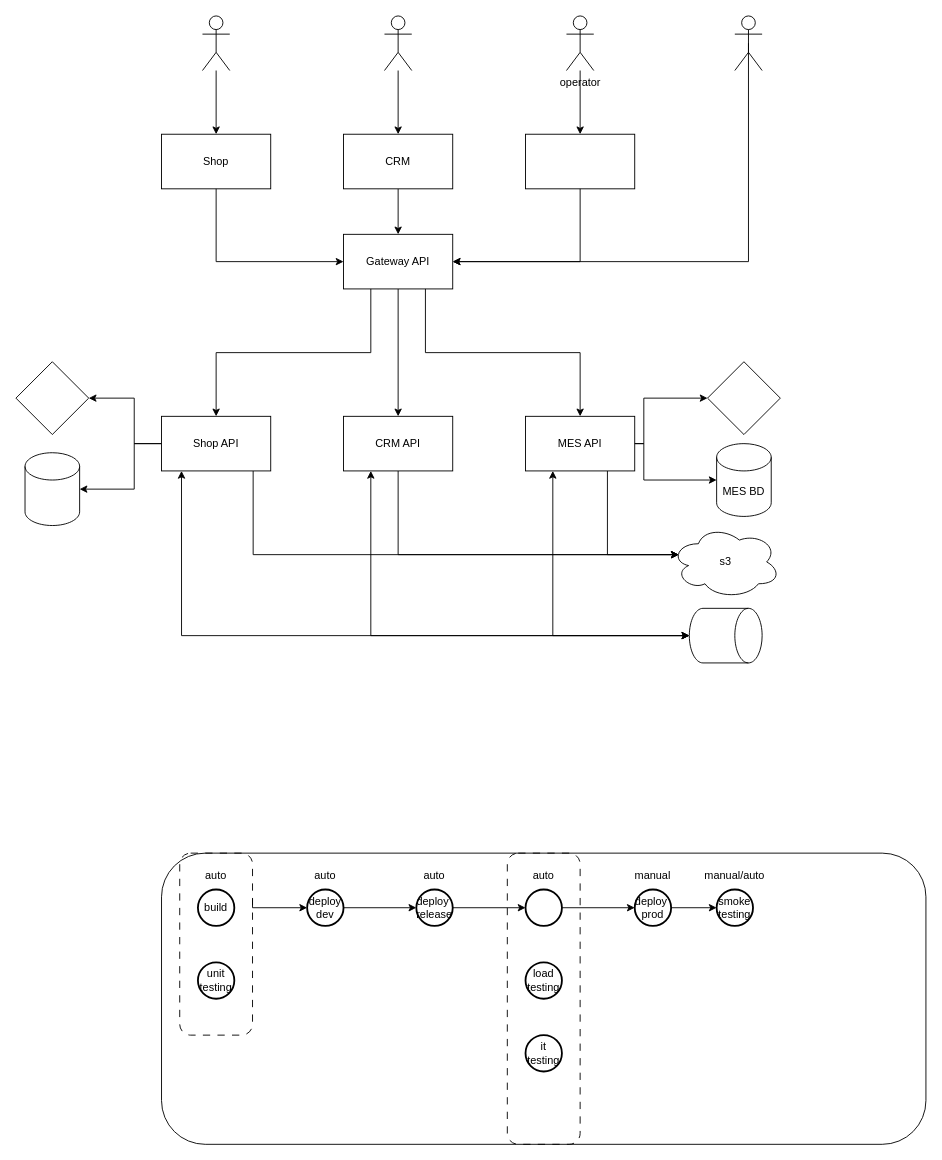
The diagram is 942 pixels wide and 1160 high, and some of its shapes have lost their labels. Each missing label, with the centre of its shape:
"api user" goes at point (748, 43).
"customer" goes at point (216, 43).
"e2e testing" goes at point (543, 907).
"MES" goes at point (580, 161).
"MES Cache" goes at point (743, 398).
"seller" goes at point (398, 43).
"Shop BD" goes at point (52, 489).
"Shop Cache" goes at point (52, 398).
